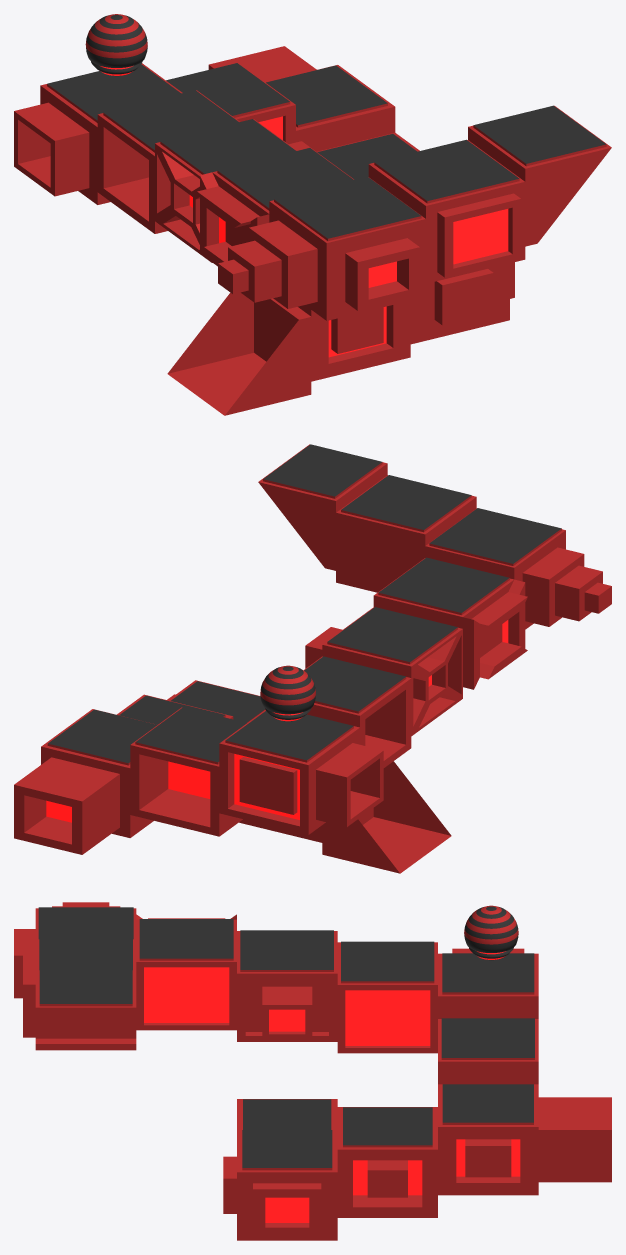
3 renders of one model, top to bottom at view 1: azimuth 30°, elevation 25°; view 2: azimuth 150°, elevation 25°; view 3: azimuth 270°, elevation 25°, orthographic. The views are drawn at different scales.
Visible parts, largest first — view 1: Stair_2, Sphere_3; view 2: Stair_2, Sphere_3; view 3: Stair_2, Sphere_3.
Boxes of the visible parts, bbox=[...] form: Stair_2: bbox=[14, 46, 611, 415]; Sphere_3: bbox=[85, 14, 147, 76]; Stair_2: bbox=[14, 444, 611, 873]; Sphere_3: bbox=[260, 665, 315, 721]; Stair_2: bbox=[14, 902, 611, 1240]; Sphere_3: bbox=[464, 905, 518, 960].
Bounding box in the file's own units: 9.69 × 6.93 × 14.87.
